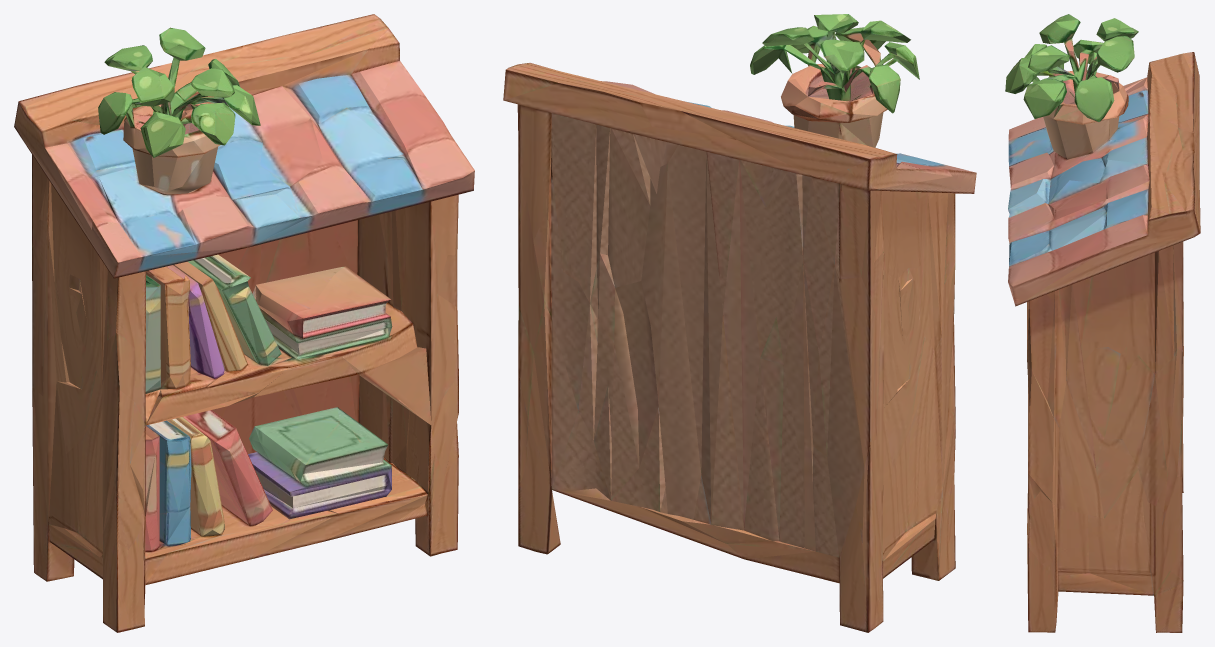
The model's file is bookshelf.glb.
3 renders of one model, left to right at view 1: azimuth 30°, elevation 25°; view 2: azimuth 150°, elevation 25°; view 3: azimuth 270°, elevation 25°, orthographic. The views are drawn at different scales.
Size of the model in its own units: 1.33 by 1.9 by 0.685.
1 material, 1 textured.
